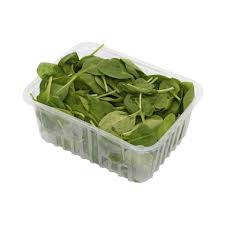spinach: (48, 46, 179, 130)
